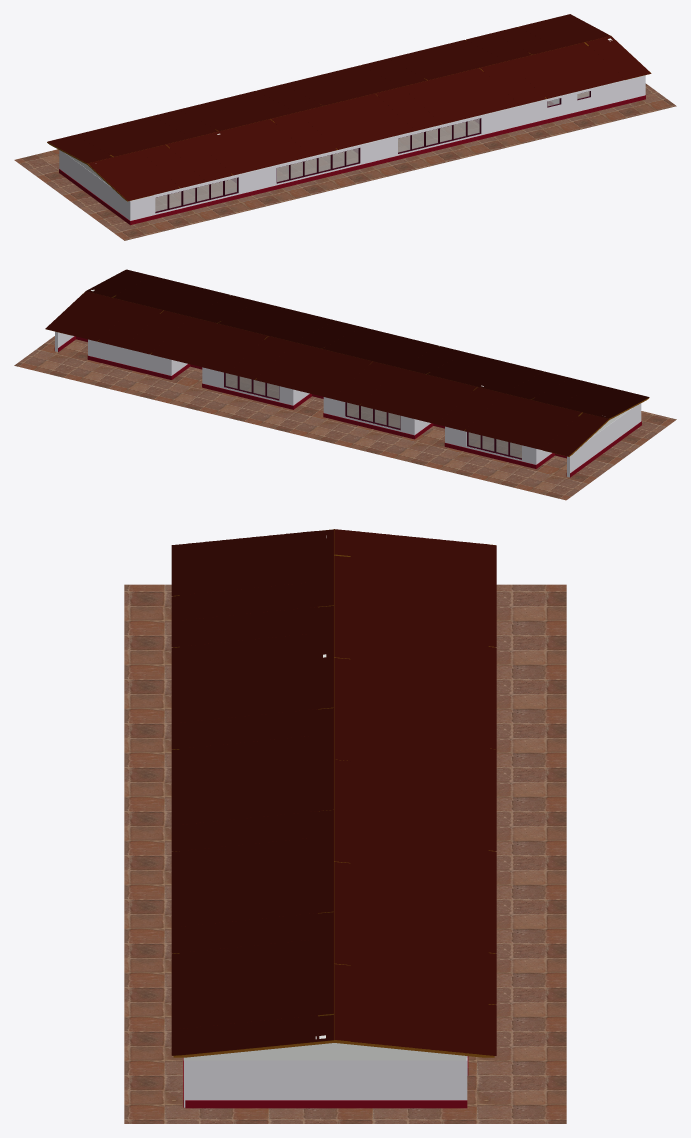
3 renders of one model, top to bottom at view 1: azimuth 30°, elevation 25°; view 2: azimuth 150°, elevation 25°; view 3: azimuth 270°, elevation 25°, orthographic. The views are drawn at different scales.
Parts seen in each view (by area): view 1: Tuile_1_430, Tuile_1_434, room_41_287, wall_16_126, wall_3_22, wall_1_6, wall_16_124, wall_11_86, wall_36_260, wall_11_84, wall_1_4, wall_3_20; view 2: Tuile_1_434, room_41_287, Tuile_1_430, wall_3_22, wall_21_166, wall_10_77, wall_15_117, wall_5_37, wall_5_35, wall_10_75, wall_15_115, wall_21_164; view 3: Tuile_1_434, Tuile_1_430, room_41_287, wall_2_13, wall_2_11, wall_34_247, wall_35_253.
Boxes of the visible parts, x1,y1,x2,y2 form: Tuile_1_430: (88,36,650,200); Tuile_1_434: (47,14,610,163); room_41_287: (14,83,676,240); wall_16_126: (377,75,645,160); wall_3_22: (59,150,130,220); wall_1_6: (130,171,253,220); wall_16_124: (377,95,645,164); wall_11_86: (253,141,376,190); wall_36_260: (132,76,642,200); wall_11_84: (253,161,377,194); wall_1_4: (130,191,253,224); wall_3_20: (59,169,130,224); Tuile_1_434: (45,291,608,456); room_41_287: (14,336,676,500); Tuile_1_430: (86,269,649,418); wall_3_22: (568,403,641,477); wall_21_166: (88,339,172,375); wall_10_77: (323,397,414,435); wall_15_117: (202,367,293,405); wall_5_37: (445,426,536,464); wall_5_35: (444,443,536,468); wall_10_75: (323,413,414,439); wall_15_115: (202,383,293,409); wall_21_164: (87,355,171,379); Tuile_1_434: (334,529,496,1055); Tuile_1_430: (171,529,333,1055); room_41_287: (124,584,566,1123); wall_2_13: (185,1060,467,1100); wall_2_11: (185,1100,467,1108); wall_34_247: (325,1043,466,1060); wall_35_253: (183,1038,325,1060).
Bounding box in the file's own units: 735 × 44.8 × 255.
14 materials, 1 textured.
